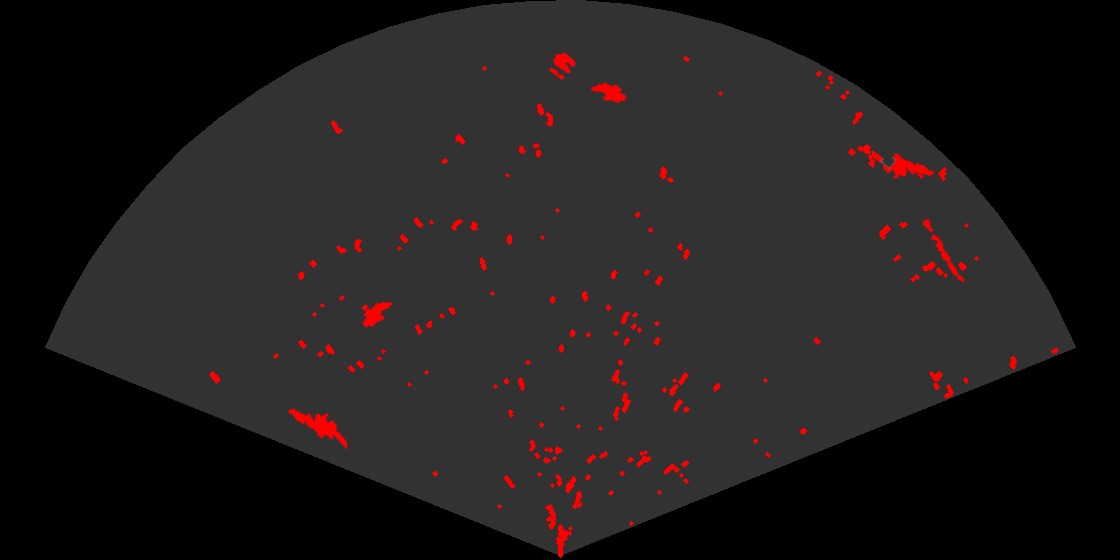AUV: (361, 300, 394, 329), (589, 81, 628, 105)
ball: (548, 51, 578, 81)
chain: (920, 215, 968, 291)
frogman: (287, 407, 347, 451), (872, 149, 936, 181)
